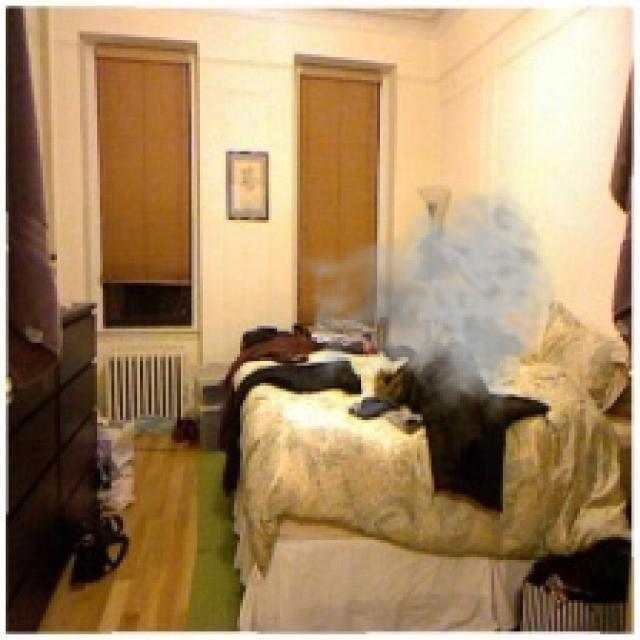Smoke: (291, 180, 560, 423)
